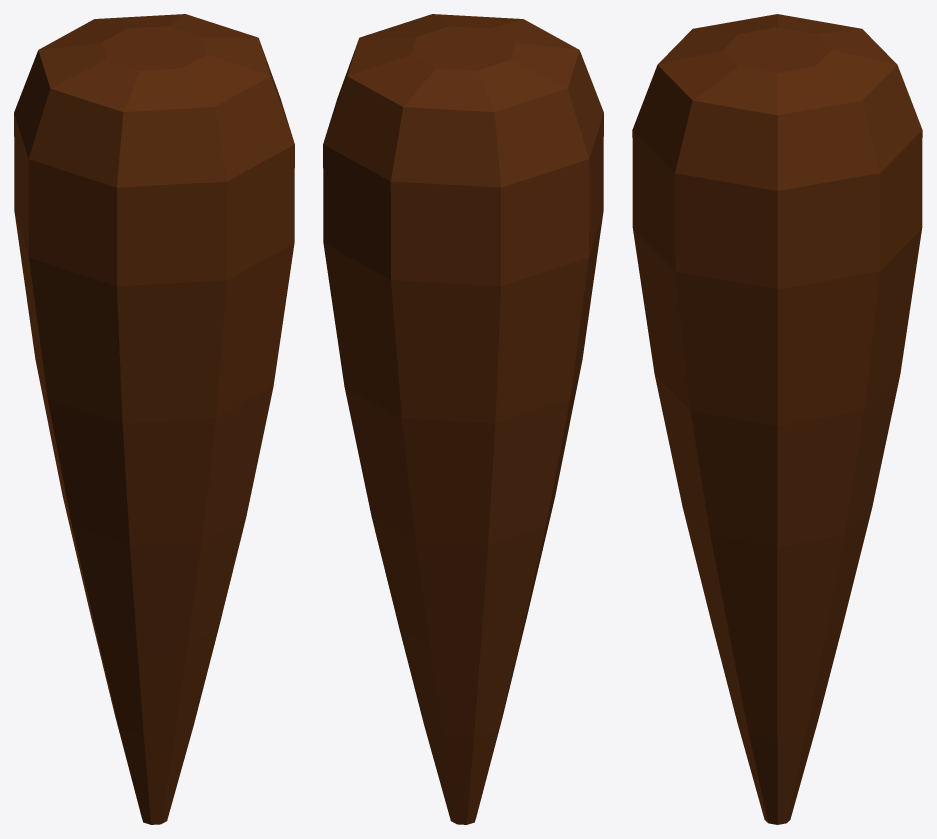
File: Carrot.obj
3 views of the same model, side by side, from view 1: azimuth 30°, elevation 25°; view 2: azimuth 150°, elevation 25°; view 3: azimuth 270°, elevation 25° (orthographic).
Visible parts, largest first — view 1: Carrot_Cylinder.008; view 2: Carrot_Cylinder.008; view 3: Carrot_Cylinder.008.
Part boxes in pixels (<box>): Carrot_Cylinder.008: <box>14,14,294,824</box>; Carrot_Cylinder.008: <box>323,14,603,824</box>; Carrot_Cylinder.008: <box>632,14,922,824</box>.
Size of the model in its own units: 0.3346 by 0.9791 by 0.3346.
